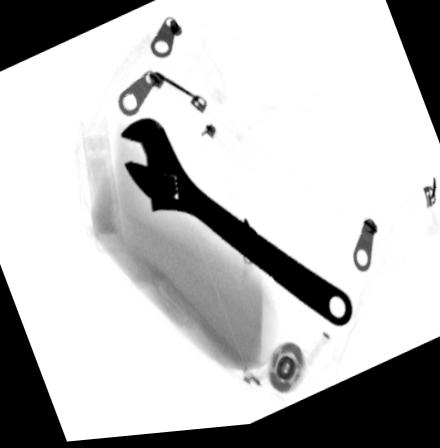Wrench: (117, 116, 355, 335)
